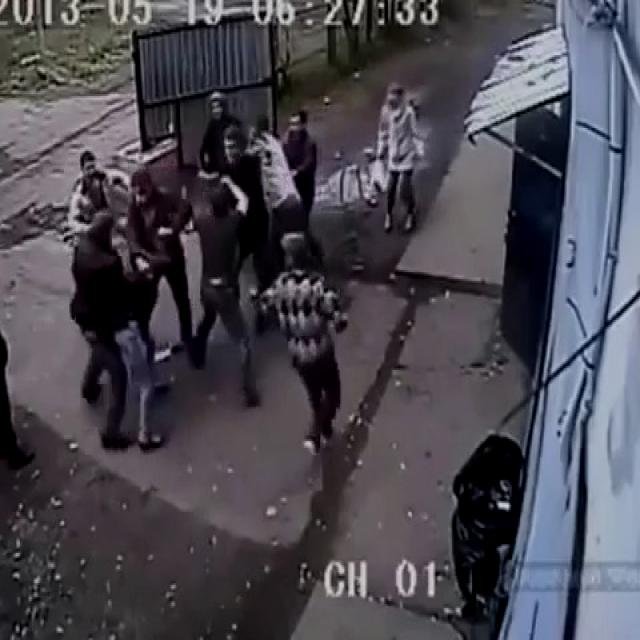fight: (48, 109, 321, 360)
